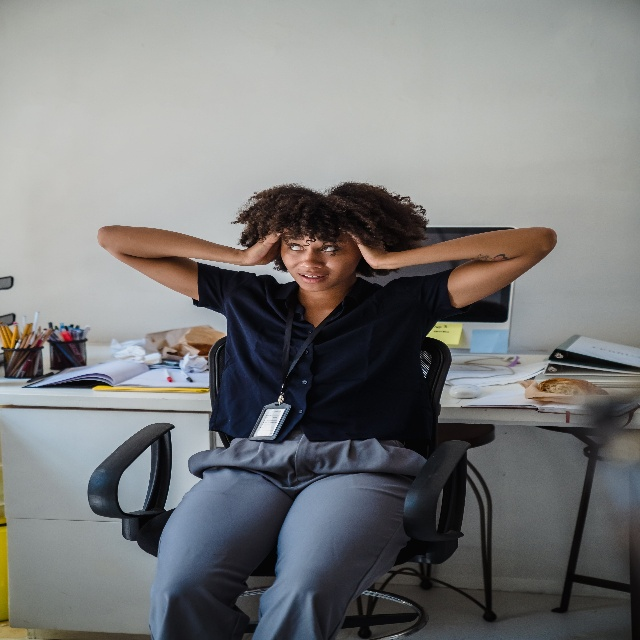Sin_guantes: (344, 230, 389, 269), (245, 232, 280, 261)
